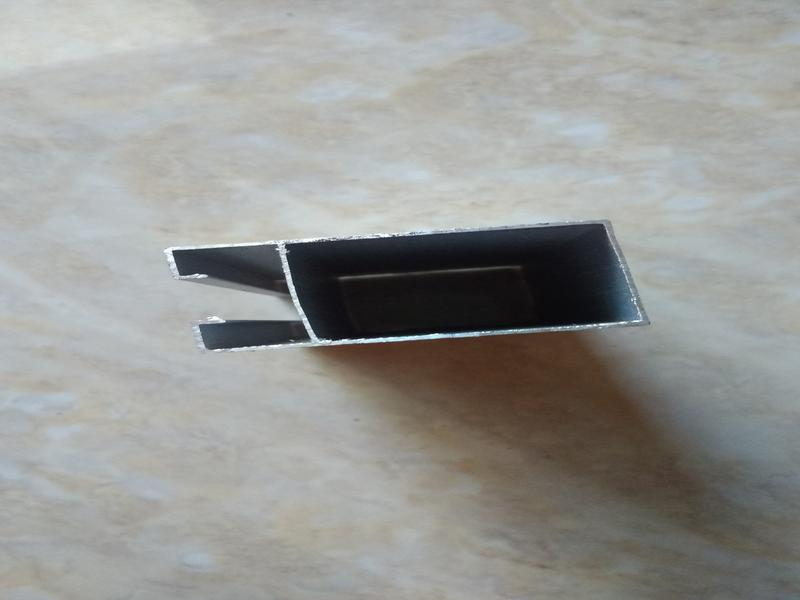Aluminium_1: (144, 206, 691, 367)
